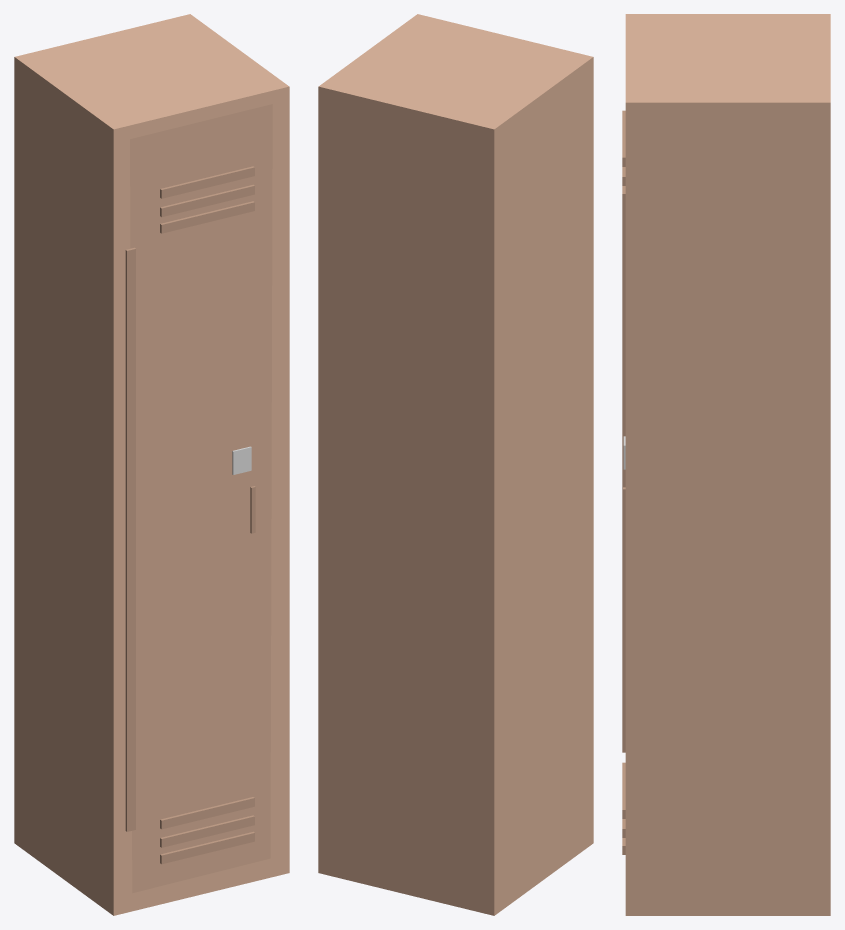
Rendered from locker_3.fbx.
The picture shows the model from 3 angles, left to right: view 1: azimuth 30°, elevation 25°; view 2: azimuth 150°, elevation 25°; view 3: azimuth 270°, elevation 25°; orthographic projection. The views are drawn at different scales.
Visible parts, largest first — view 1: Cube_4; view 2: Cube_4; view 3: Cube_4.
Boxes of the visible parts, x1=… form: Cube_4: x1=14, y1=14, x2=289, y2=915; Cube_4: x1=318, y1=14, x2=593, y2=915; Cube_4: x1=622, y1=14, x2=830, y2=915.
Bounding box in the file's own units: 63.35 × 271 × 62.81.
